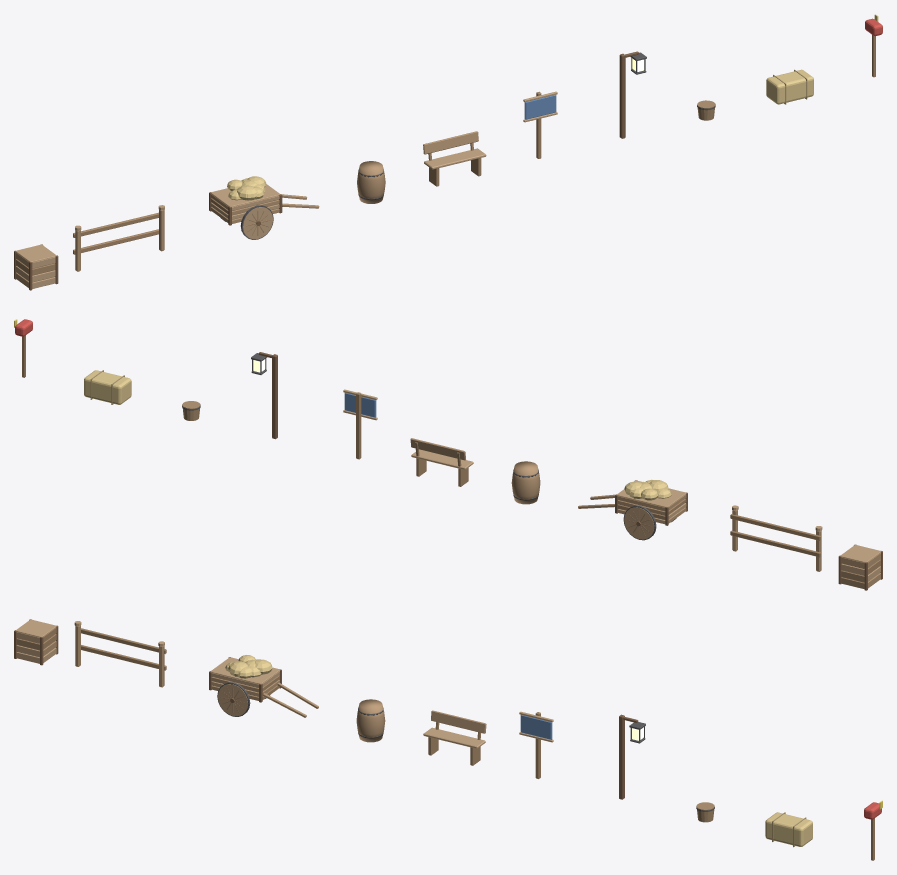
Rendered from props.glb.
3 renders of one model, top to bottom at view 1: azimuth 30°, elevation 25°; view 2: azimuth 150°, elevation 25°; view 3: azimuth 330°, elevation 25°, orthographic.
Parts seen in each view (by area): view 1: cart, crate, bench, fence, haybale, barrel, sign, lamp; view 2: cart, crate, fence, bench, haybale, barrel, sign, lamp; view 3: cart, crate, bench, fence, haybale, barrel, sign, lamp.
Part boxes in pixels (left/top/right/bottom): cart: left=209, top=176, right=319, bottom=239; crate: left=14, top=244, right=58, bottom=290; bench: left=423, top=131, right=486, bottom=186; fence: left=73, top=205, right=164, bottom=271; haybale: left=766, top=69, right=813, bottom=104; barrel: left=357, top=161, right=385, bottom=203; sign: left=523, top=91, right=557, bottom=158; lamp: left=619, top=51, right=646, bottom=138; cart: left=578, top=479, right=687, bottom=540; crate: left=838, top=544, right=882, bottom=590; fence: left=730, top=505, right=822, bottom=571; bench: left=410, top=438, right=473, bottom=486; haybale: left=84, top=370, right=131, bottom=404; barrel: left=511, top=461, right=540, bottom=504; sign: left=343, top=389, right=377, bottom=459; lamp: left=251, top=352, right=277, bottom=439; cart: left=209, top=655, right=318, bottom=717; crate: left=14, top=619, right=58, bottom=665; bench: left=423, top=710, right=486, bottom=765; fence: left=74, top=621, right=166, bottom=687; haybale: left=765, top=812, right=812, bottom=847; barrel: left=356, top=699, right=385, bottom=742; sign: left=519, top=711, right=553, bottom=778; lamp: left=619, top=714, right=645, bottom=799.
Bounding box in the file's own units: 20.48 × 1.92 × 1.1.
